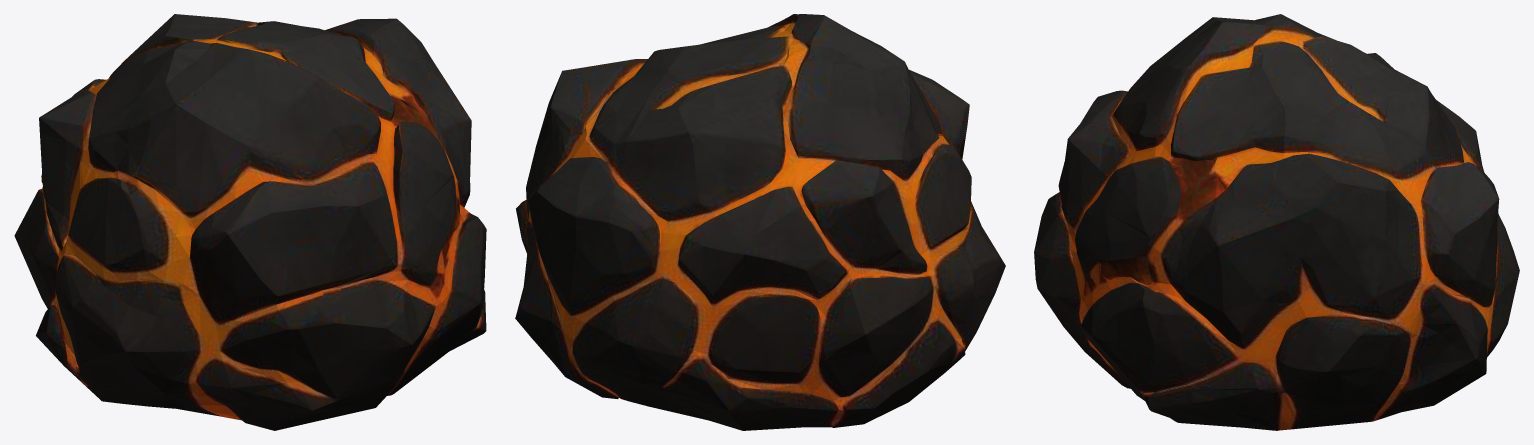
File: d_braises_rocher_lave.glb
3 renders of one model, left to right at view 1: azimuth 30°, elevation 25°; view 2: azimuth 150°, elevation 25°; view 3: azimuth 270°, elevation 25°, orthographic. The views are drawn at different scales.
Visible parts, largest first — view 1: geometry_0; view 2: geometry_0; view 3: geometry_0.
Boxes of the visible parts, box(x1,y1,x2,y2) form: geometry_0: box(14, 14, 486, 430); geometry_0: box(515, 14, 1005, 430); geometry_0: box(1034, 14, 1519, 430).
Size of the model in its own units: 0.9539 by 0.7598 by 0.9924.
1 material, 1 textured.
